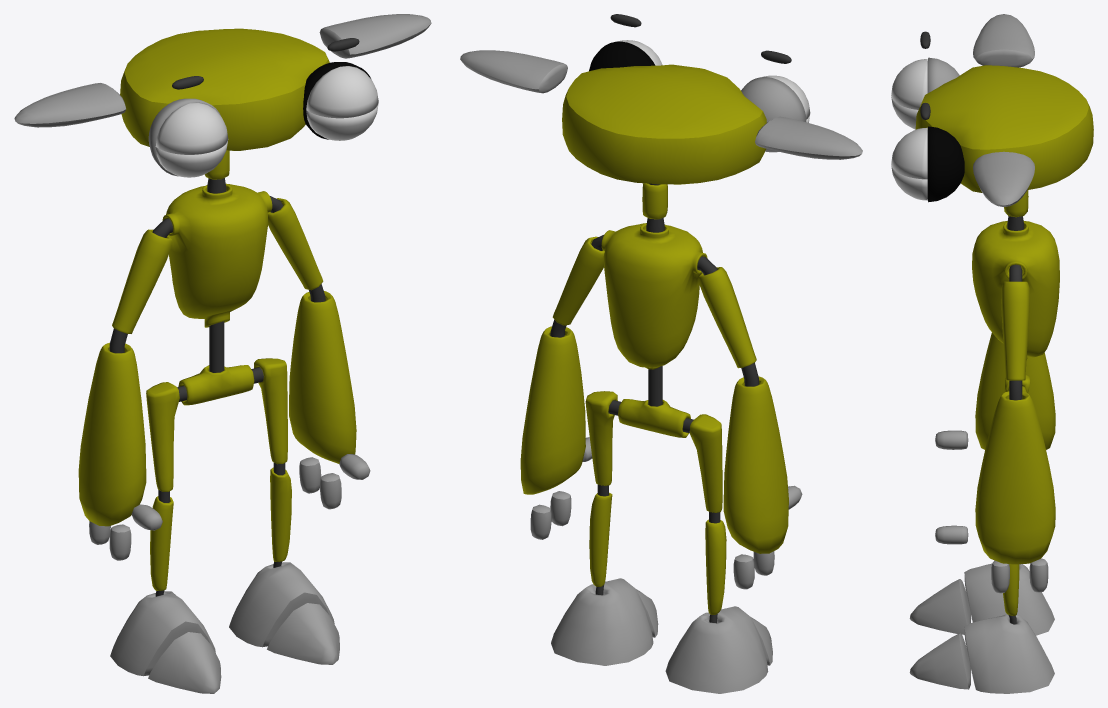
File: eye_tick1.obj
The picture shows the model from 3 angles, left to right: view 1: azimuth 30°, elevation 25°; view 2: azimuth 150°, elevation 25°; view 3: azimuth 270°, elevation 25°; orthographic projection. The views are drawn at different scales.
Visible parts, largest first — view 1: Mesh polySurface50, Mesh polySurface41, Mesh polySurface37, Mesh polySurface18, Mesh polySurface48, Mesh polySurface10, Mesh polySurface26, Mesh polySurface8, Mesh polySurface24, polySurface20, polySurface3, Mesh polySurface38 (+15 smaller); view 2: Mesh polySurface41, Mesh polySurface50, Mesh polySurface48, Mesh polySurface37, Mesh polySurface18, Mesh polySurface26, Mesh polySurface10, Mesh polySurface38, Mesh polySurface47, Mesh polySurface44, Mesh polySurface28, Mesh polySurface12 (+7 smaller); view 3: Mesh polySurface18, Mesh polySurface50, Mesh polySurface41, Mesh polySurface10, Mesh polySurface37, Mesh polySurface48, Mesh polySurface26, Mesh polySurface44, Mesh polySurface51, Mesh polySurface4, Mesh polySurface8, Mesh polySurface24 (+13 smaller).
Boxes of the visible parts, x1,y1,x2,y2 form: Mesh polySurface50: [124, 28, 327, 105]; Mesh polySurface41: [162, 183, 272, 327]; Mesh polySurface37: [78, 342, 146, 526]; Mesh polySurface18: [289, 291, 356, 463]; Mesh polySurface48: [120, 53, 329, 150]; Mesh polySurface10: [229, 562, 334, 646]; Mesh polySurface26: [110, 591, 215, 675]; Mesh polySurface8: [267, 603, 339, 664]; Mesh polySurface24: [148, 632, 221, 693]; polySurface20: [155, 102, 228, 154]; polySurface3: [306, 66, 378, 118]; Mesh polySurface38: [112, 229, 172, 333]; Mesh polySurface41: [601, 223, 707, 369]; Mesh polySurface50: [566, 64, 762, 138]; Mesh polySurface48: [562, 89, 766, 184]; Mesh polySurface37: [723, 376, 788, 553]; Mesh polySurface18: [520, 326, 585, 494]; Mesh polySurface26: [665, 606, 768, 693]; Mesh polySurface10: [551, 578, 653, 665]; Mesh polySurface38: [698, 267, 756, 368]; Mesh polySurface47: [755, 116, 862, 156]; Mesh polySurface44: [460, 50, 565, 89]; Mesh polySurface28: [689, 414, 722, 512]; Mesh polySurface12: [585, 391, 617, 485]; Mesh polySurface18: [975, 391, 1055, 564]; Mesh polySurface50: [920, 65, 1088, 149]; Mesh polySurface41: [972, 221, 1059, 359]; Mesh polySurface10: [964, 614, 1054, 693]; Mesh polySurface37: [975, 333, 1055, 449]; Mesh polySurface48: [915, 100, 1093, 192]; Mesh polySurface26: [964, 563, 1054, 635]; Mesh polySurface44: [973, 151, 1034, 205]; Mesh polySurface51: [1001, 281, 1029, 380]; Mesh polySurface4: [927, 126, 964, 202]; Mesh polySurface8: [909, 633, 968, 689]; Mesh polySurface24: [909, 579, 966, 634].
Size of the model in its own units: 10.05 by 14.23 by 4.53.
